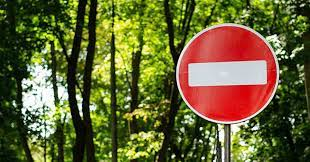No entry: (176, 23, 279, 124)
